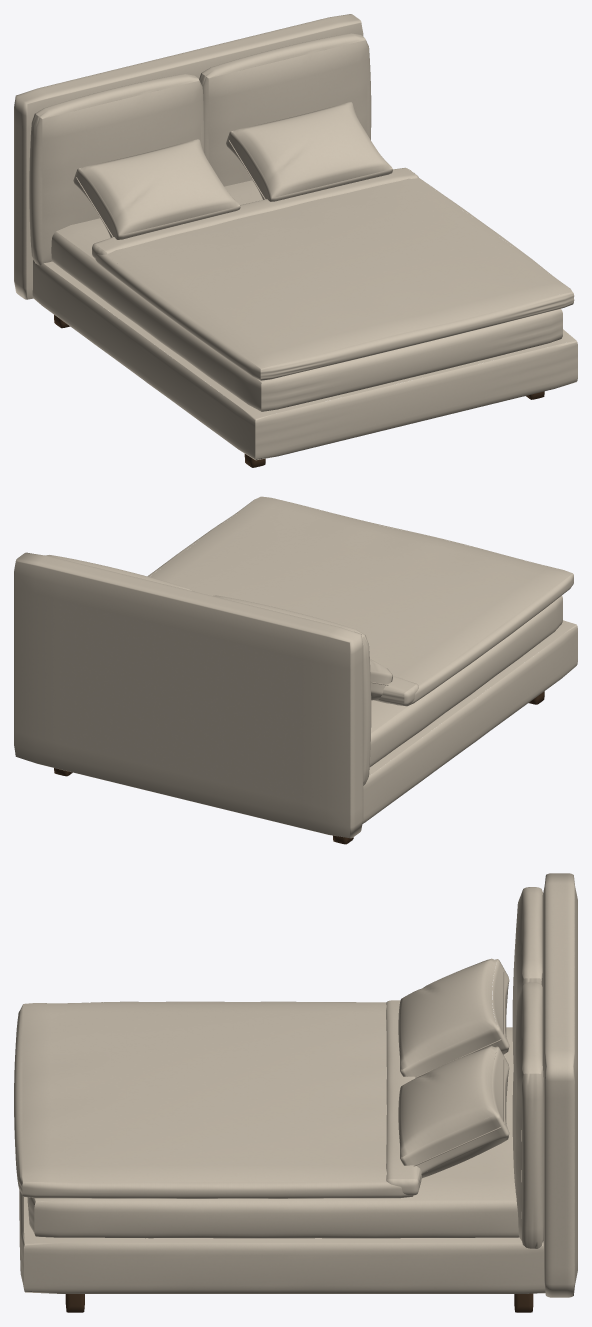
File: bed_sand_mobile.glb
The picture shows the model from 3 angles, top to bottom: view 1: azimuth 30°, elevation 25°; view 2: azimuth 150°, elevation 25°; view 3: azimuth 270°, elevation 25°; orthographic projection. The views are drawn at different scales.
Parts seen in each view (by area): view 1: soft_linen_duvet, upholstered_bed_base, mattress, padded_headboard_-1, padded_headboard_1, headboard_frame, loose_pillow_2, loose_pillow_1, folded_duvet_edge; view 2: headboard_frame, soft_linen_duvet, upholstered_bed_base, mattress, padded_headboard_-1, folded_duvet_edge, loose_pillow_1, padded_headboard_1; view 3: soft_linen_duvet, upholstered_bed_base, mattress, headboard_frame, loose_pillow_2, loose_pillow_1, padded_headboard_1, folded_duvet_edge, padded_headboard_-1.
Part boxes in pixels (x1=…): soft_linen_duvet: x1=94, y1=178, x2=574, y2=380; upholstered_bed_base: x1=32, y1=259, x2=577, y2=460; mattress: x1=51, y1=180, x2=562, y2=411; padded_headboard_-1: x1=29, y1=74, x2=203, y2=265; padded_headboard_1: x1=199, y1=33, x2=371, y2=186; headboard_frame: x1=14, y1=14, x2=363, y2=299; loose_pillow_2: x1=226, y1=102, x2=392, y2=201; loose_pillow_1: x1=73, y1=139, x2=240, y2=239; folded_duvet_edge: x1=92, y1=167, x2=418, y2=258; headboard_frame: x1=14, y1=552, x2=363, y2=838; soft_linen_duvet: x1=147, y1=496, x2=573, y2=706; upholstered_bed_base: x1=362, y1=620, x2=577, y2=823; mattress: x1=369, y1=595, x2=562, y2=766; padded_headboard_-1: x1=213, y1=595, x2=371, y2=785; folded_duvet_edge: x1=373, y1=676, x2=418, y2=705; loose_pillow_1: x1=370, y1=659, x2=392, y2=700; padded_headboard_1: x1=45, y1=555, x2=193, y2=591; soft_linen_duvet: x1=14, y1=1001, x2=413, y2=1198; upholstered_bed_base: x1=19, y1=1190, x2=545, y2=1293; mattress: x1=27, y1=1027, x2=521, y2=1238; headboard_frame: x1=541, y1=873, x2=577, y2=1297; loose_pillow_2: x1=398, y1=1046, x2=509, y2=1178; loose_pillow_1: x1=398, y1=958, x2=509, y2=1076; padded_headboard_1: x1=512, y1=982, x2=543, y2=1248; folded_duvet_edge: x1=386, y1=1000, x2=421, y2=1195; padded_headboard_-1: x1=512, y1=887, x2=542, y2=1098.
Bounding box in the file's own units: 1.8 × 1.13 × 2.2.
Materials: 3 (1 with a texture image).
